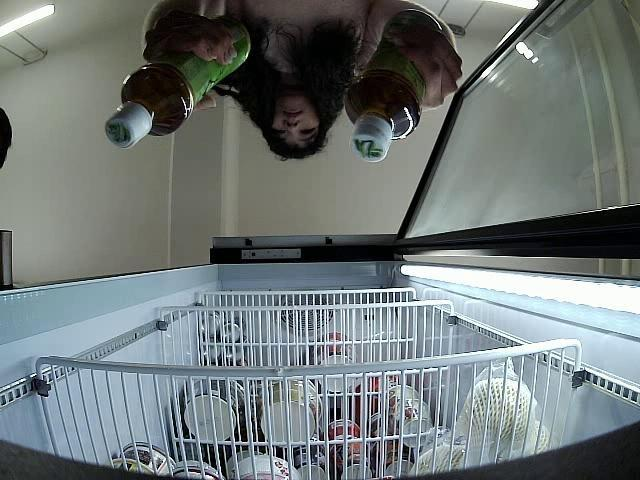19_17cha: (104, 22, 249, 150), (347, 11, 440, 162)
